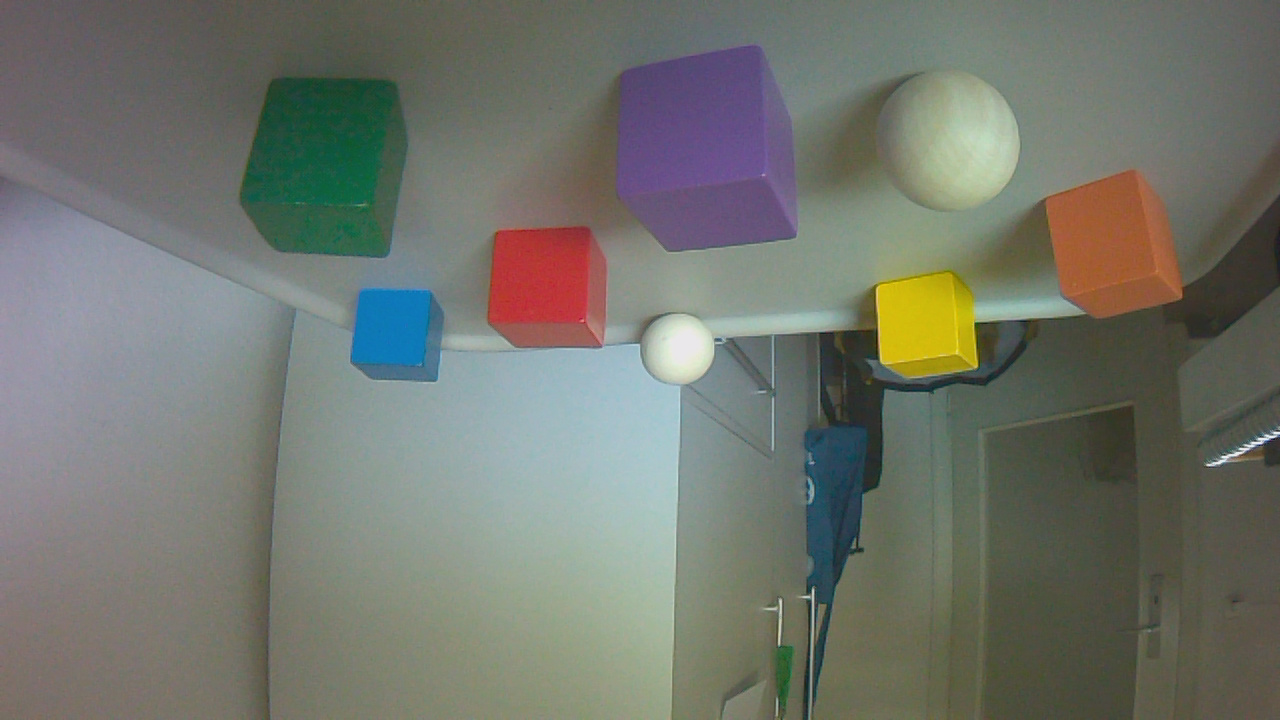ball: (875, 72, 1027, 219), (644, 315, 721, 392)
cube_blue: (354, 291, 450, 389)
cube_green: (241, 77, 417, 265)
cube_orange: (1048, 170, 1189, 327)
cube_purple: (619, 48, 804, 259)
cube_red: (489, 231, 614, 354)
cube_yellow: (878, 274, 985, 389)
